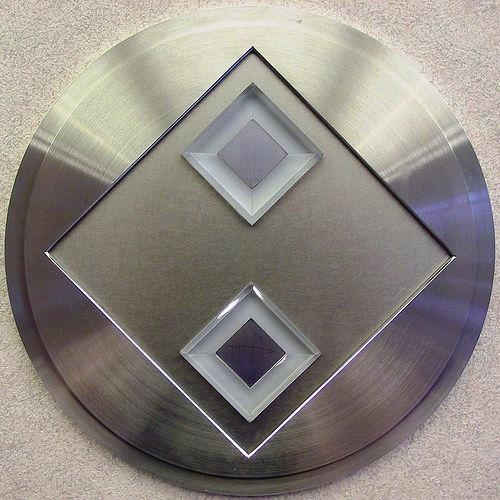empty: (175, 81, 329, 229), (169, 280, 326, 423)
